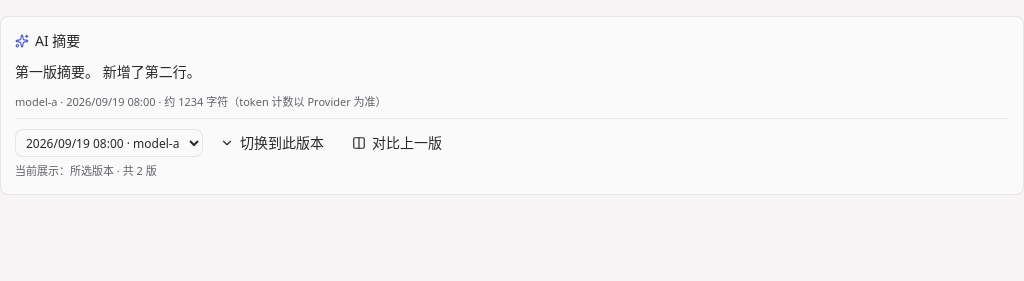
it: F027 AI 结果版本 › F027: 对比上一版显示增删行
Expected: the text "当前展示：所选版本 · 共 2 版" is shown, [15, 163, 157, 178]
Click the button "对比上一版": {"x": 397, "y": 143} [341, 127, 453, 159]
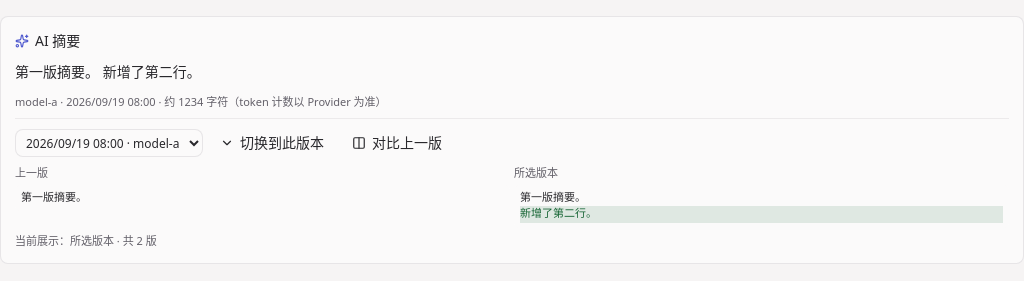
Expected: the button "新增了第二行。" is shown, [103, 61, 201, 84]
Expected: the text "上一版" is shown, [15, 165, 48, 180]
